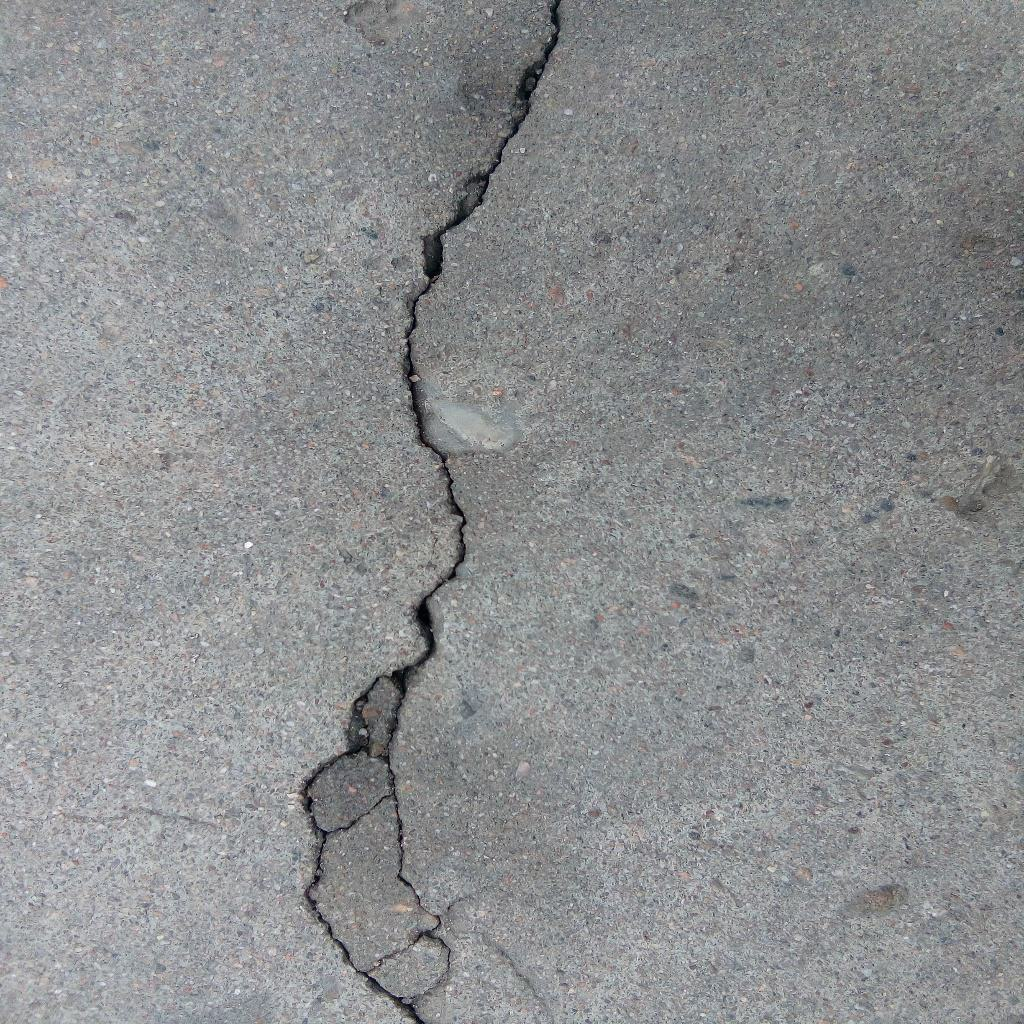Crack: (298, 1, 565, 1024)
